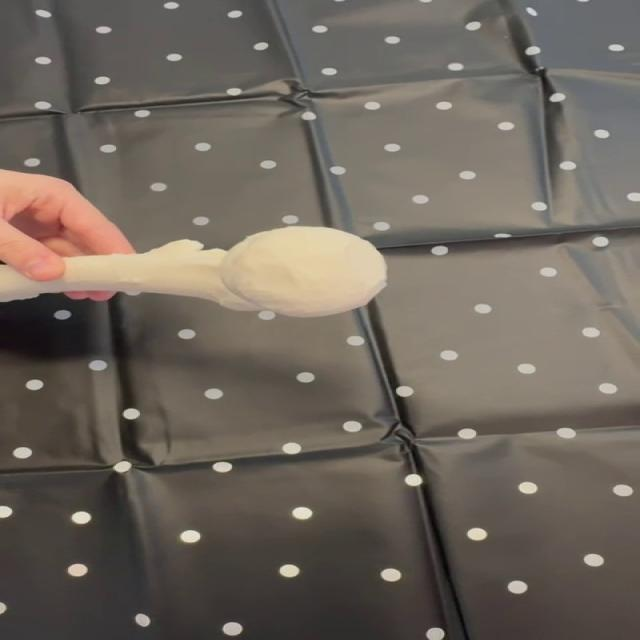bones: (0, 227, 387, 317)
